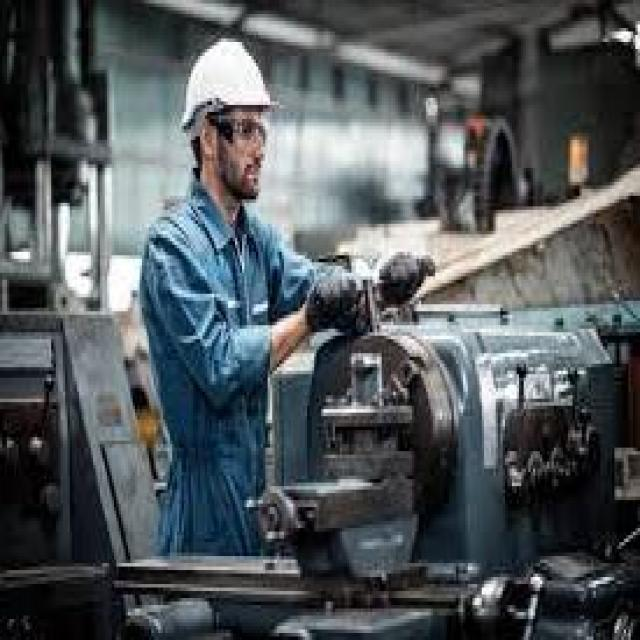Safety-Helmet: (172, 32, 279, 136)
